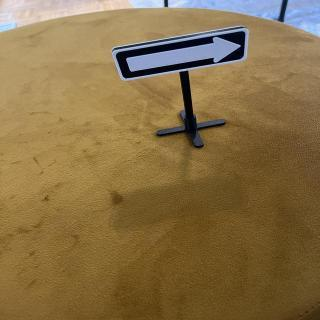sign_oneway_right: (112, 28, 251, 83)
